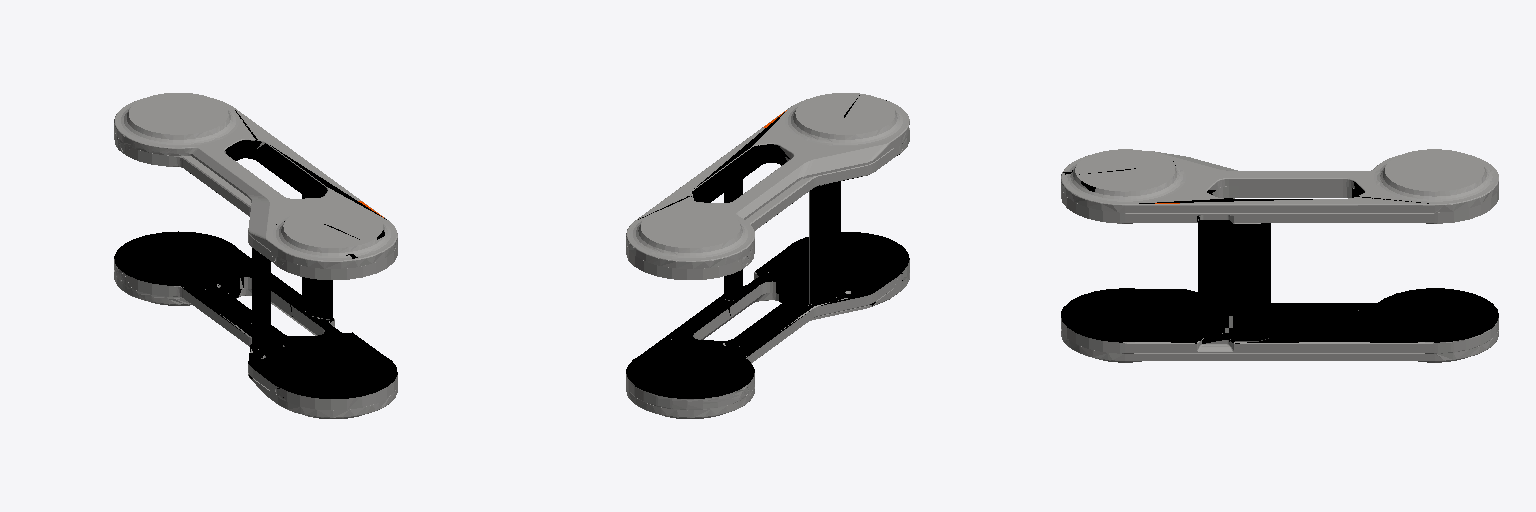
3 views of the same model, side by side, from view 1: azimuth 30°, elevation 25°; view 2: azimuth 150°, elevation 25°; view 3: azimuth 270°, elevation 25° (orthographic).
Parts seen in each view (by area): view 1: torso_link2; view 2: torso_link2; view 3: torso_link2.
Boxes of the visible parts, x1,y1,x2,y2 form: torso_link2: [114, 93, 397, 418]; torso_link2: [626, 93, 909, 418]; torso_link2: [1061, 149, 1498, 362].
Size of the model in its own units: 0.125 by 0.183 by 0.425.
1 materials, 1 textured.